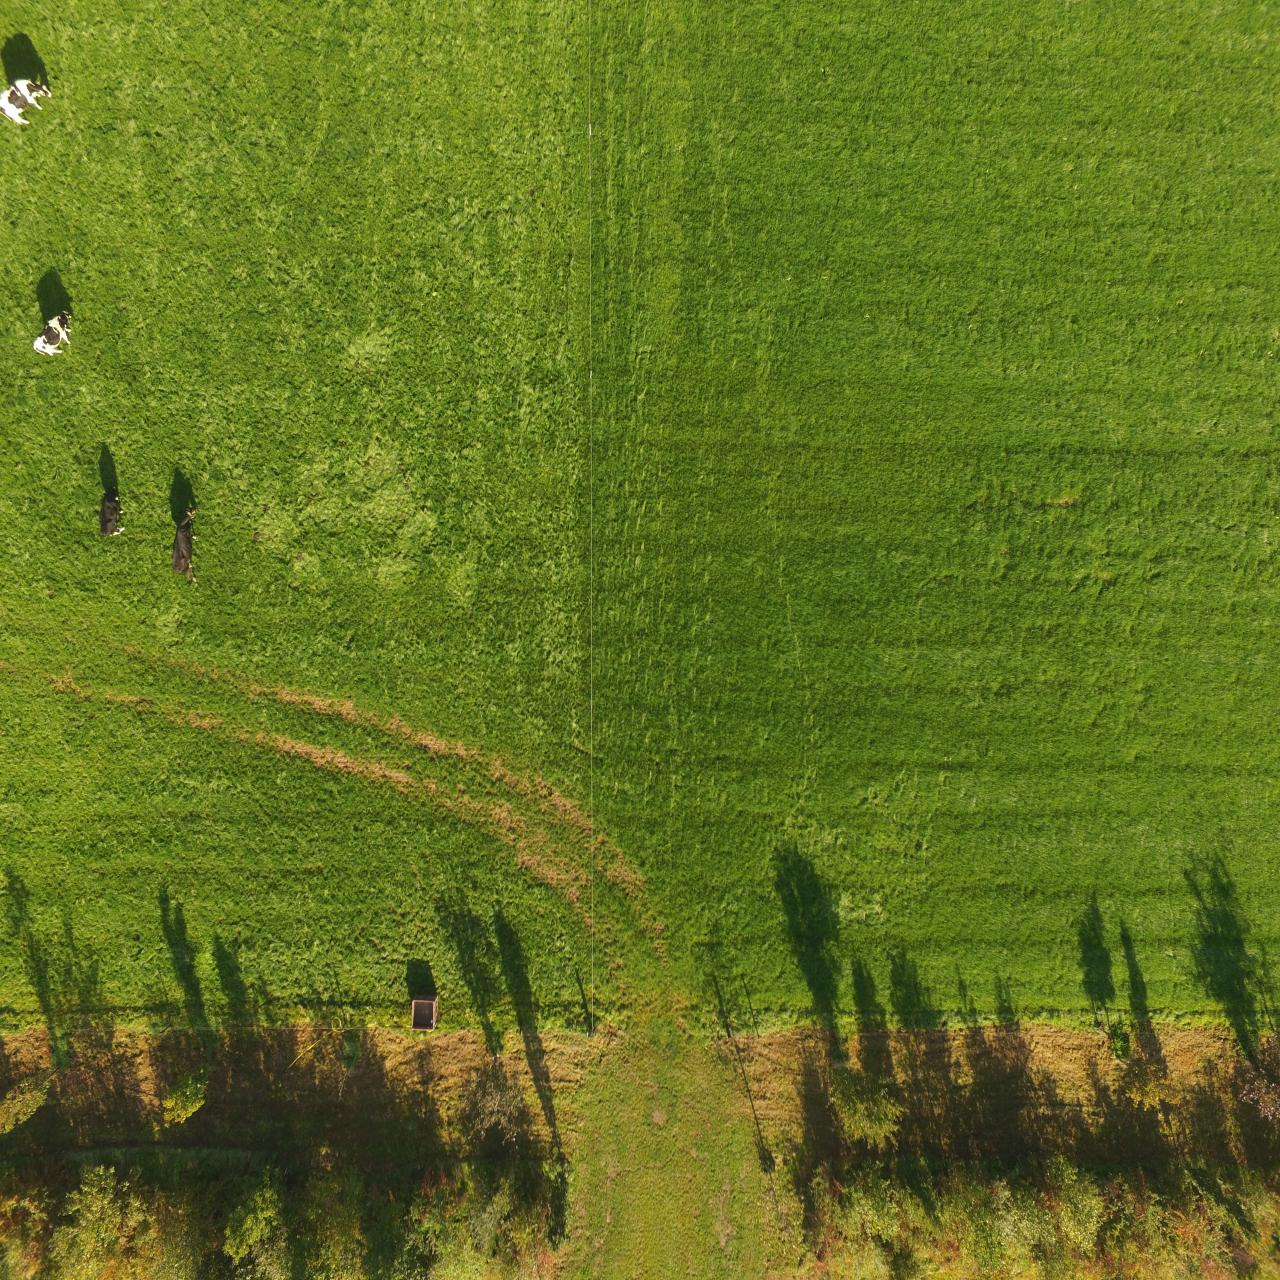cow: (0, 67, 56, 142), (28, 299, 81, 375), (173, 502, 200, 588), (97, 479, 123, 546)
